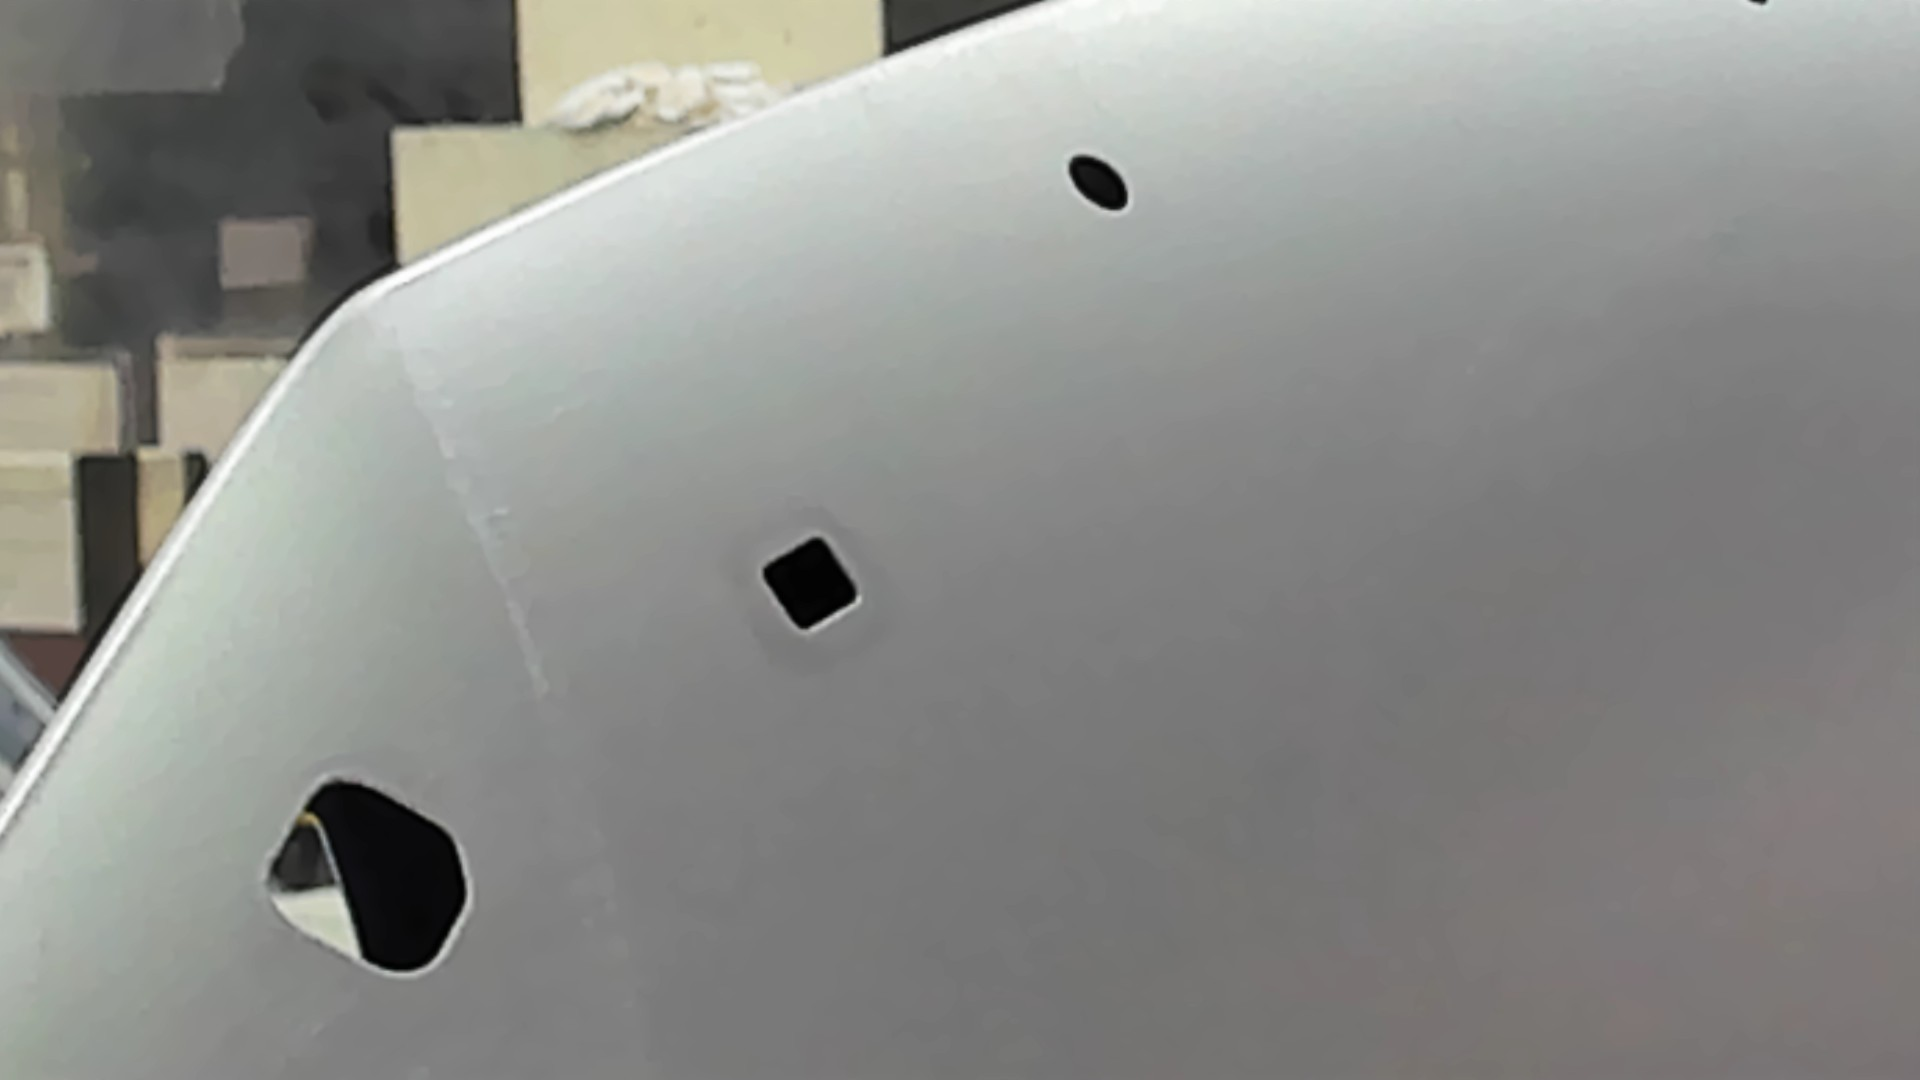capo: (866, 222, 1920, 1080)
chico: (1062, 146, 1137, 218)
grande: (258, 767, 477, 986)
mediano: (753, 531, 864, 636)
